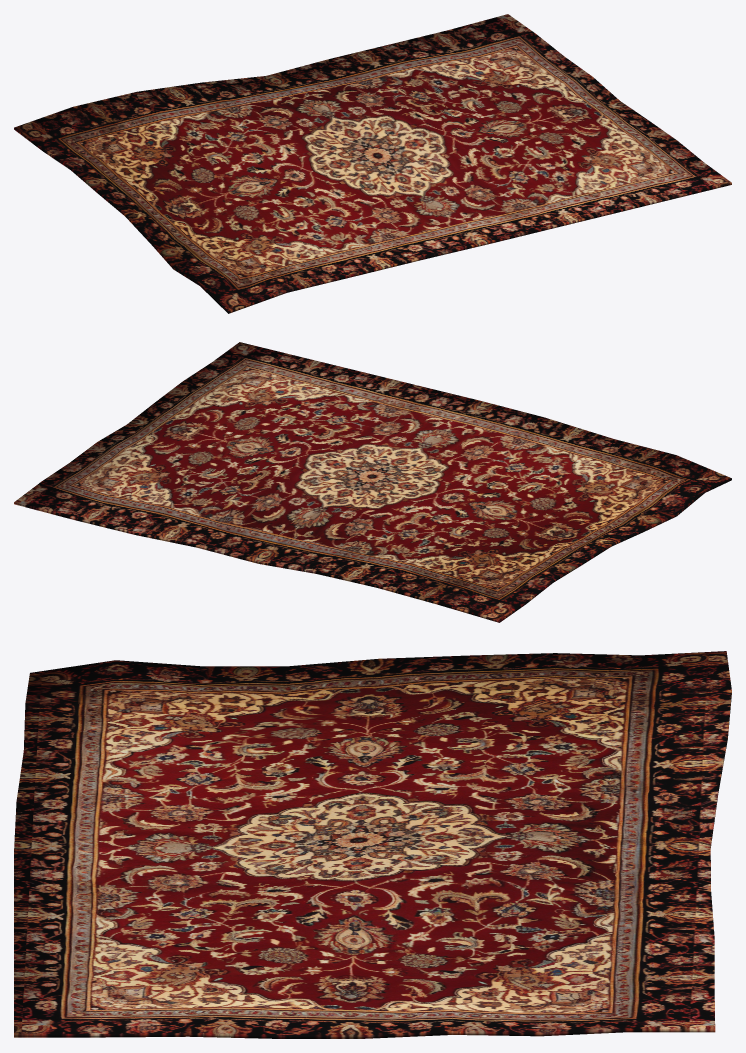
File: Carpet.fbx
3 views of the same model, one above another, from view 1: azimuth 30°, elevation 25°; view 2: azimuth 150°, elevation 25°; view 3: azimuth 270°, elevation 25° (orthographic). The views are drawn at different scales.
Visible parts, largest first — view 1: Carpet.001; view 2: Carpet.001; view 3: Carpet.001.
Part boxes in pixels (left/top/right/bottom): Carpet.001: left=14, top=14, right=731, bottom=313; Carpet.001: left=14, top=342, right=731, bottom=622; Carpet.001: left=14, top=651, right=731, bottom=1038.
Size of the model in its own units: 2.59 by 0.1284 by 2.06.
